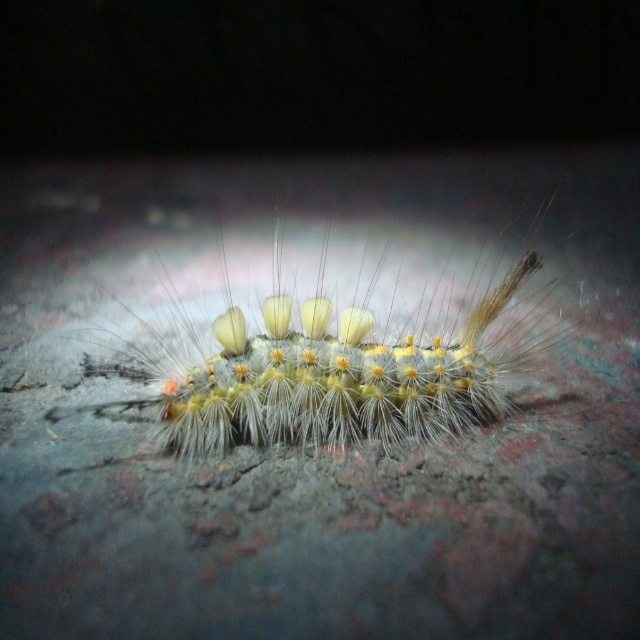Caterpillar: (63, 187, 575, 476)
